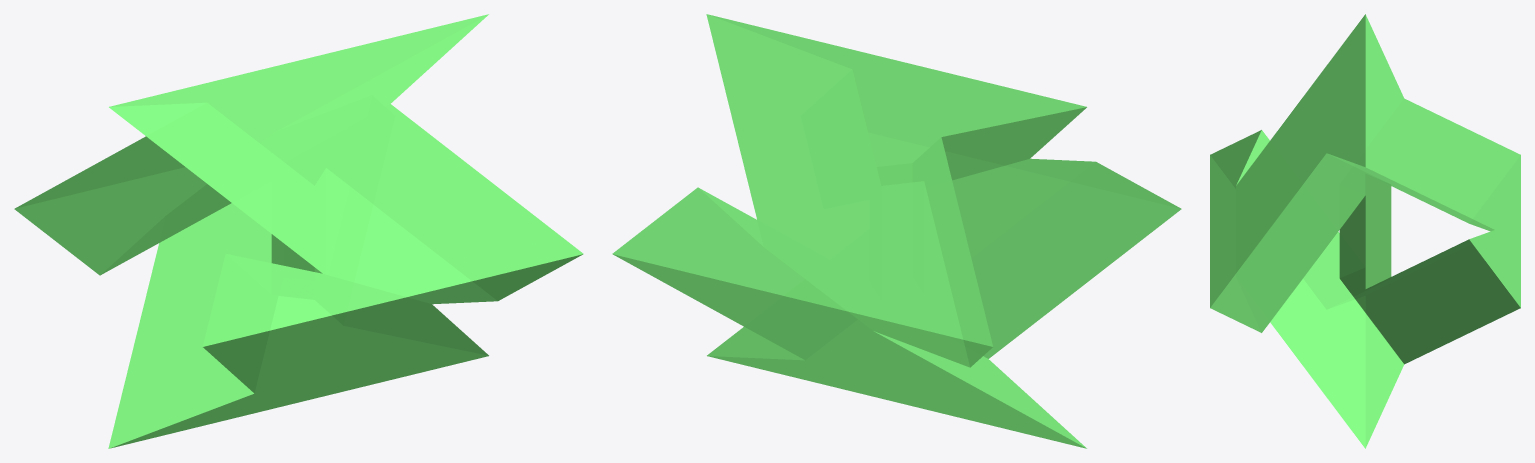
The model's file is HeptagonalDodecahedron_K.obj.
The picture shows the model from 3 angles, left to right: view 1: azimuth 30°, elevation 25°; view 2: azimuth 150°, elevation 25°; view 3: azimuth 270°, elevation 25°; orthographic projection. The views are drawn at different scales.
Bounding box in the file's own units: 2.8 × 2.4 × 2.4.
